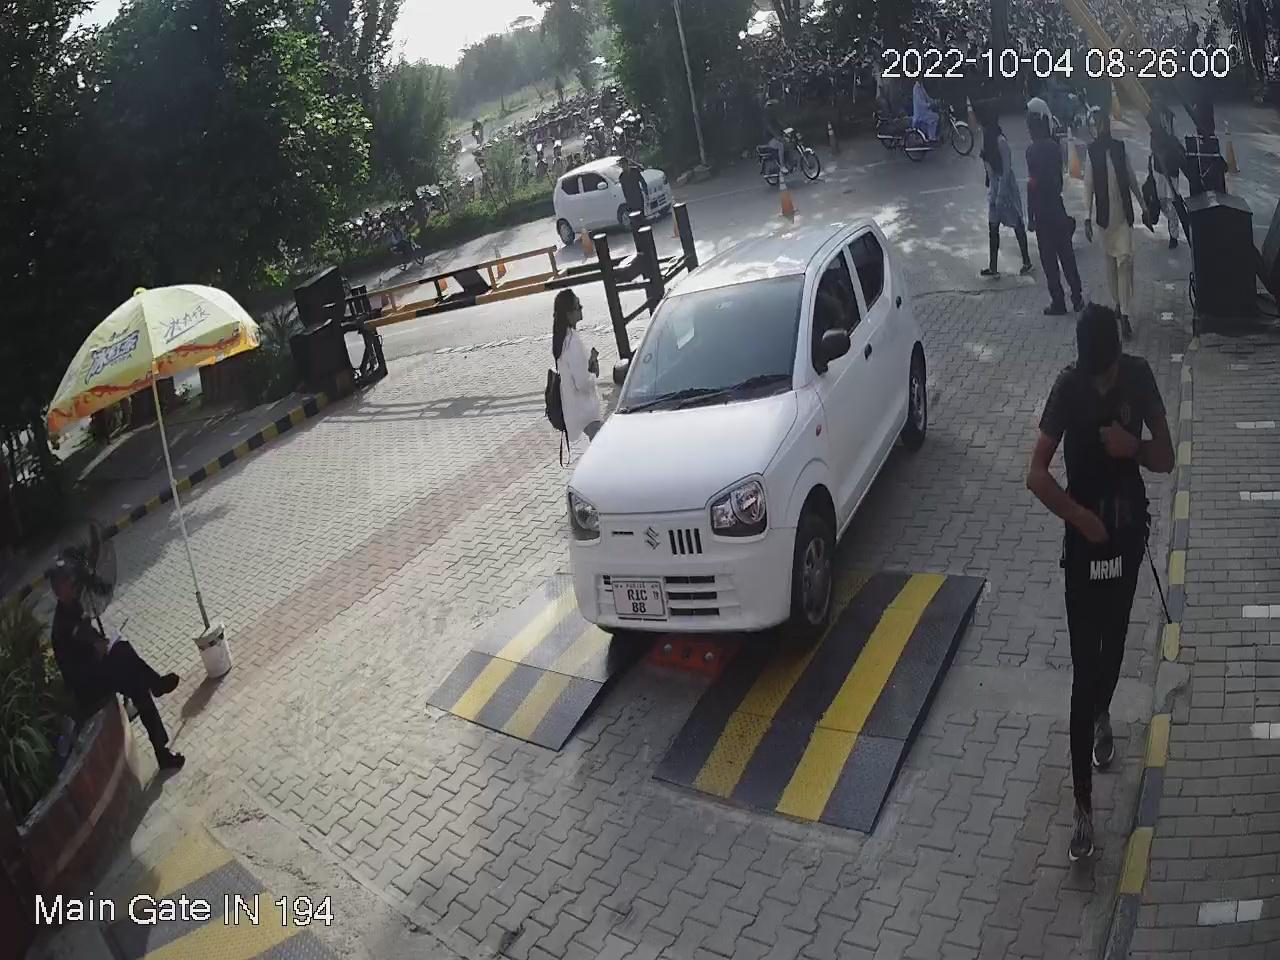windshield: (623, 272, 817, 405)
